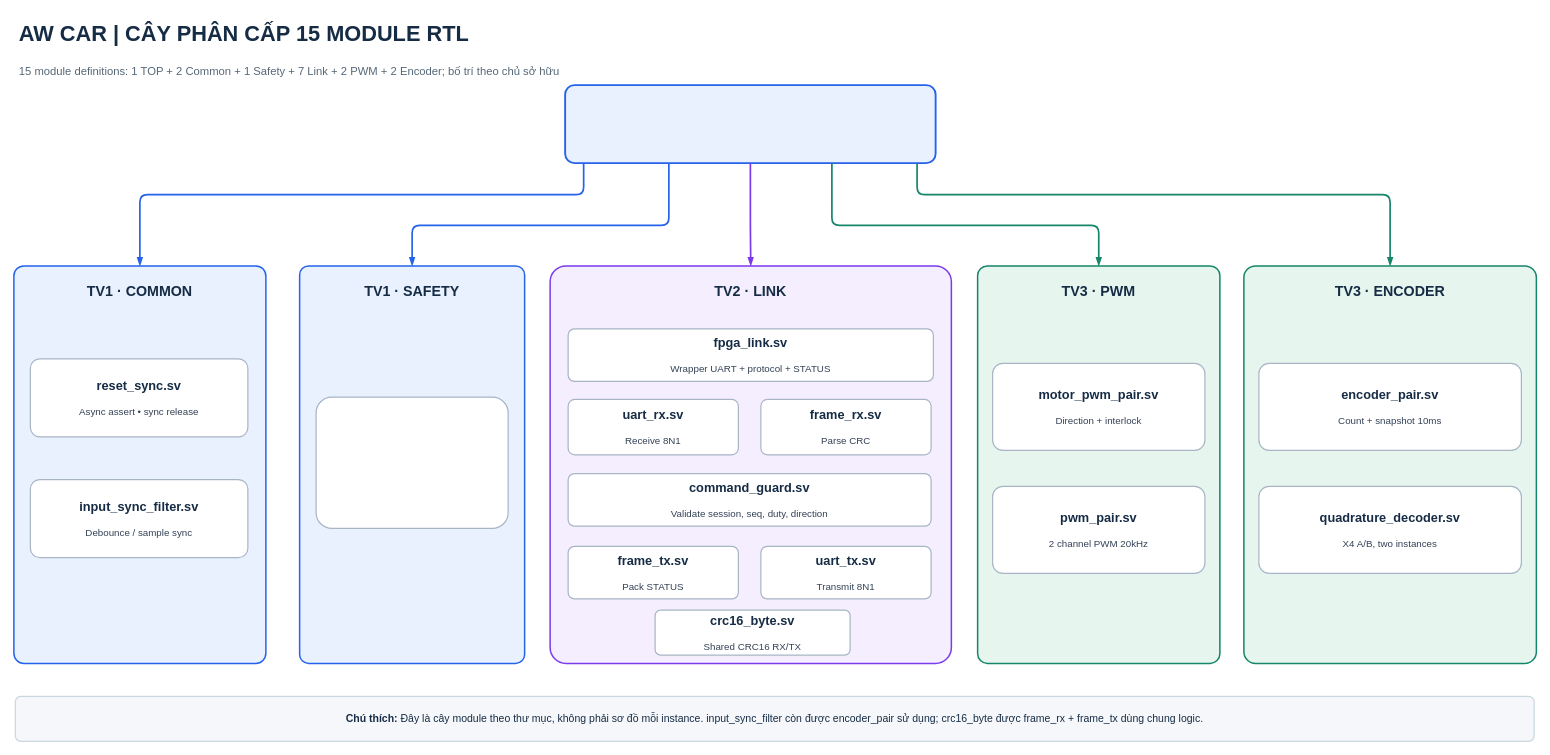
This 1550x755 diagram has some shape labels left out. The shapes that lost their labels are listed below. From the top down, each one's box as (x1, y1, x2, y2) in pixels, then its label:
(564, 84, 936, 164): drive_core.sv · TOP TV1 tích hợp 5 nhóm RTL UART / FSM / PWM / Encoder / reset
(315, 396, 508, 529): safety_fsm.sv DISARMED / HANDSHAKE ARM_PENDING / ARMED FAULT / CLEAR_WAIT
